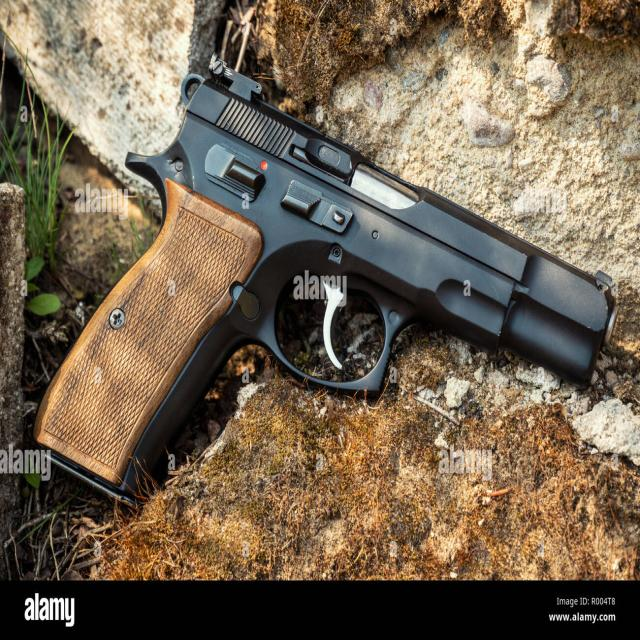handgun: (35, 64, 617, 504)
